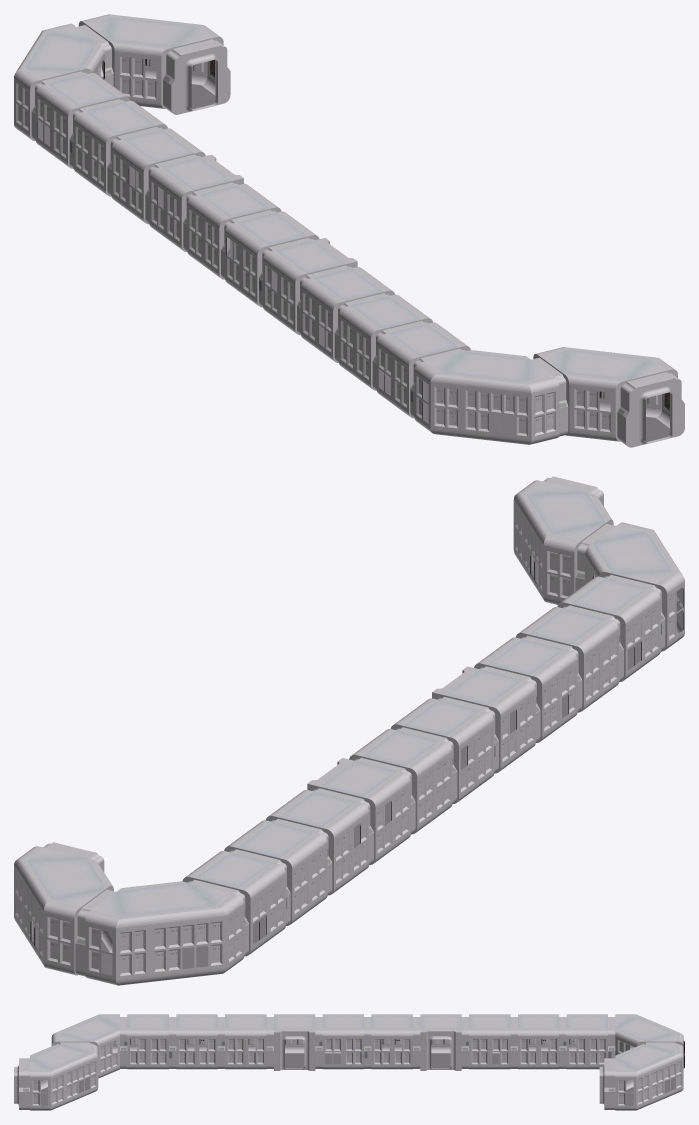
File: thm_spc_corvette_dungeon_r20_hall20_mesh_r20.fbx
3 renders of one model, top to bottom at view 1: azimuth 30°, elevation 25°; view 2: azimuth 150°, elevation 25°; view 3: azimuth 270°, elevation 25°, orthographic. The views are drawn at different scales.
Parts seen in each view (by area): view 1: mesh_node; view 2: mesh_node; view 3: mesh_node.
Boxes of the visible parts, x1,y1,x2,y2 form: mesh_node: (14,14,684,447); mesh_node: (14,476,684,985); mesh_node: (14,1014,684,1110).
Size of the model in its own units: 12 by 3.5 by 55.
